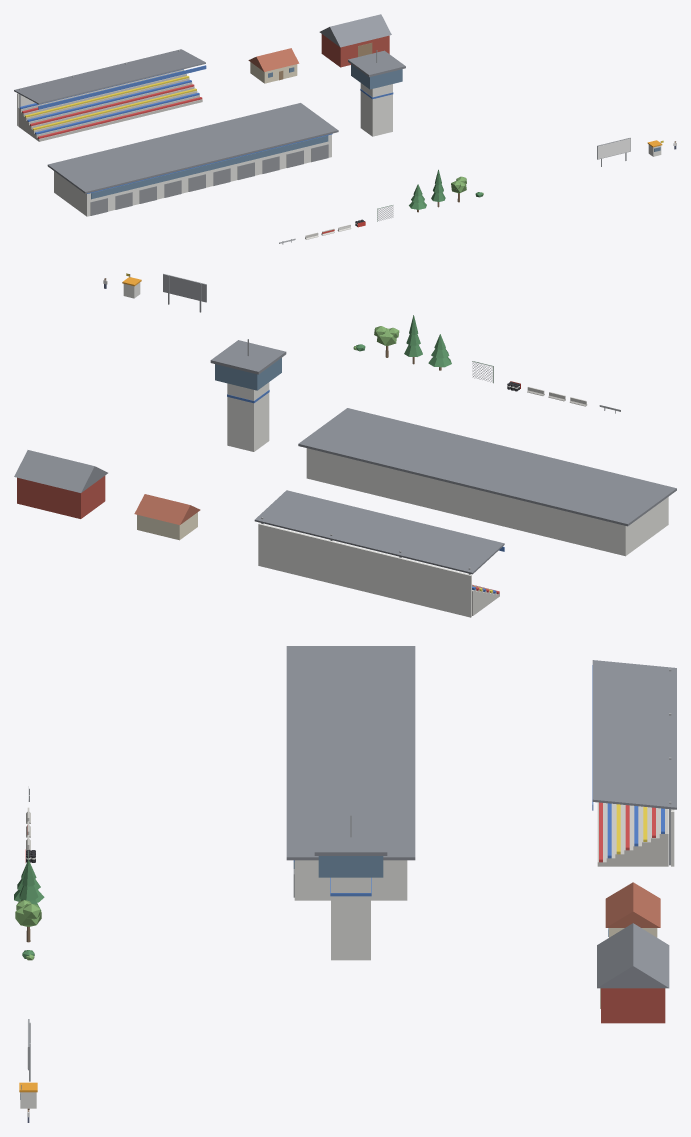
The model's file is track_kit.glb.
3 views of the same model, one above another, from view 1: azimuth 30°, elevation 25°; view 2: azimuth 150°, elevation 25°; view 3: azimuth 270°, elevation 25° (orthographic). The views are drawn at different scales.
Visible parts, largest first — view 1: pit_building, grandstand, control_tower, barn, house, billboard; view 2: pit_building, grandstand, control_tower, barn, house, billboard; view 3: pit_building, grandstand, control_tower, barn, house.
Boxes of the visible parts, <box> form: pit_building: <box>47,103,338,216</box>; grandstand: <box>14,49,206,141</box>; control_tower: <box>348,50,405,136</box>; barn: <box>319,14,391,67</box>; house: <box>248,48,299,83</box>; billboard: <box>597,137,630,166</box>; pit_building: <box>298,408,676,556</box>; grandstand: <box>254,490,504,617</box>; control_tower: <box>210,339,286,451</box>; barn: <box>14,450,107,518</box>; house: <box>134,494,200,540</box>; billboard: <box>163,273,206,312</box>; pit_building: <box>286,646,415,900</box>; grandstand: <box>592,660,676,866</box>; control_tower: <box>314,815,387,960</box>; barn: <box>597,923,669,1023</box>; house: <box>605,882,660,937</box>.
Size of the model in its own units: 126 by 18.78 by 82.24.
Materials: 29 (1 with a texture image).
